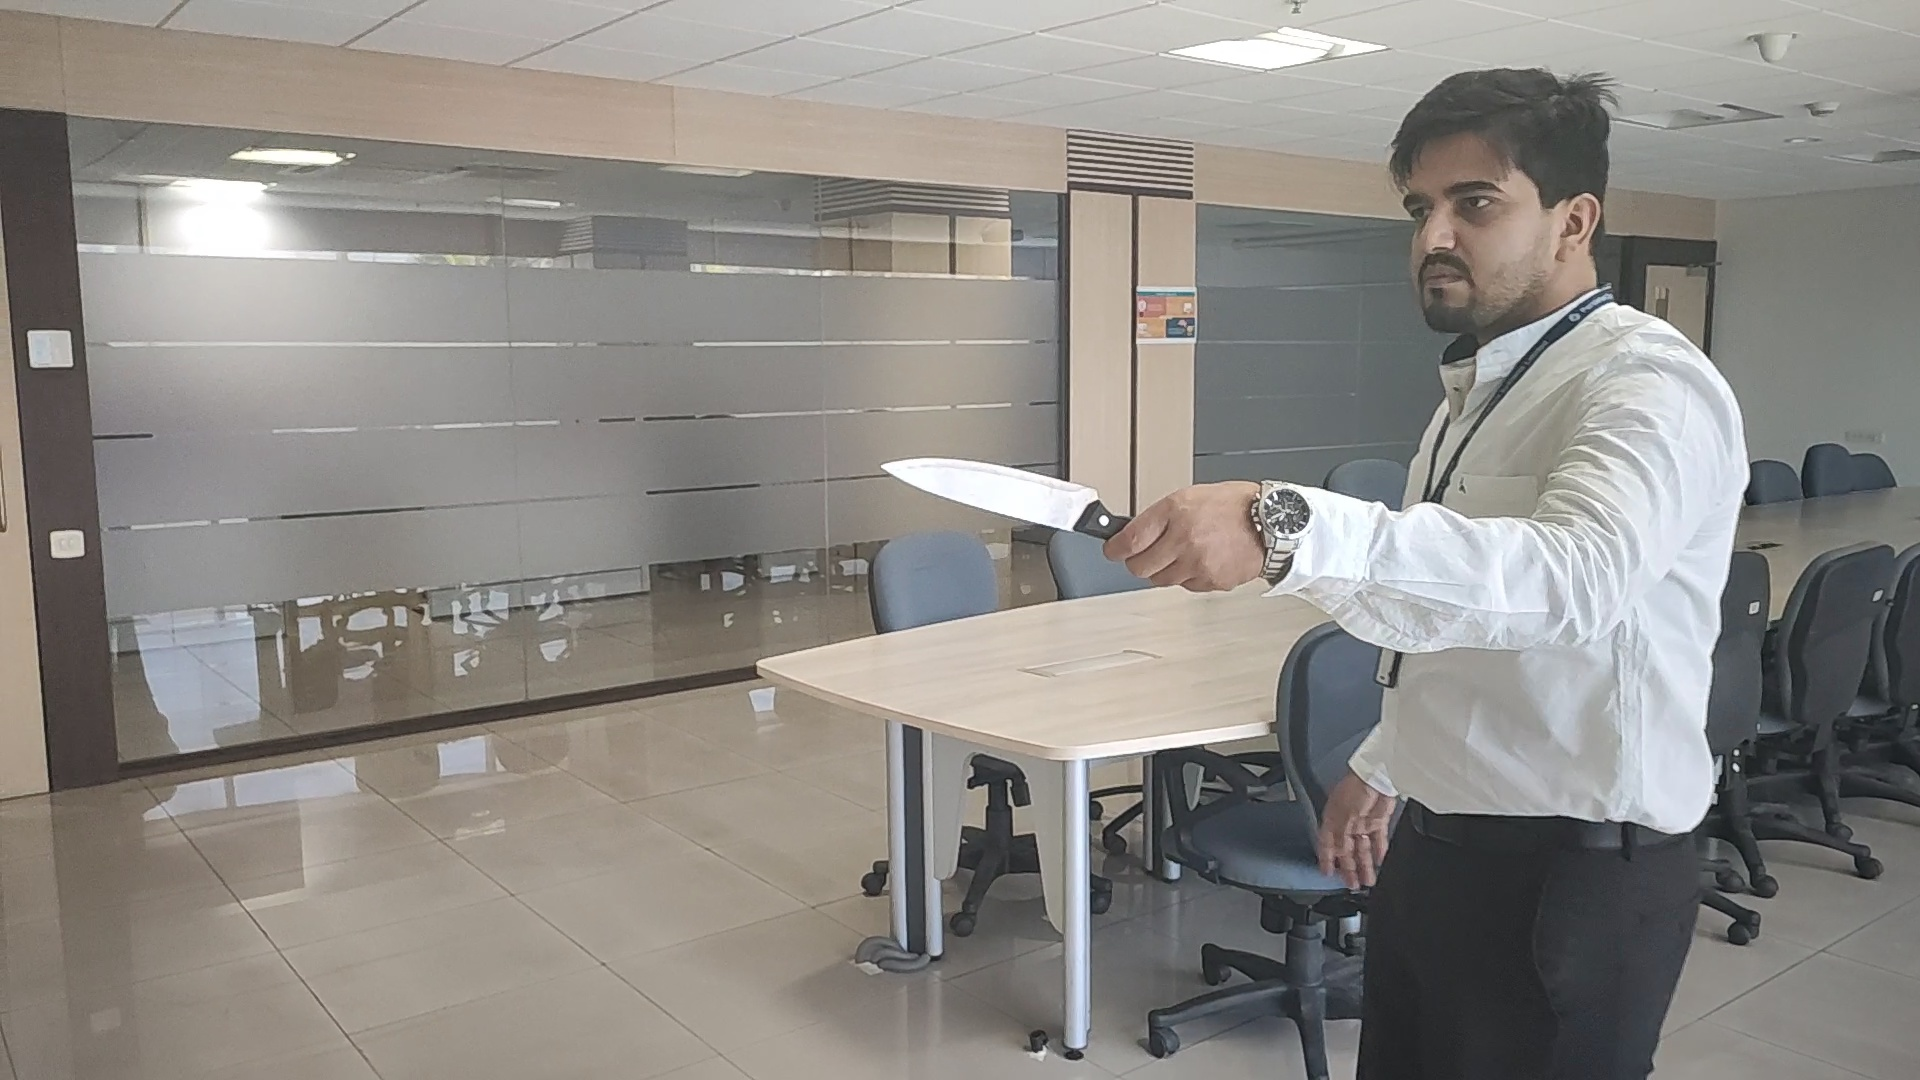knife: (880, 451, 1122, 537)
